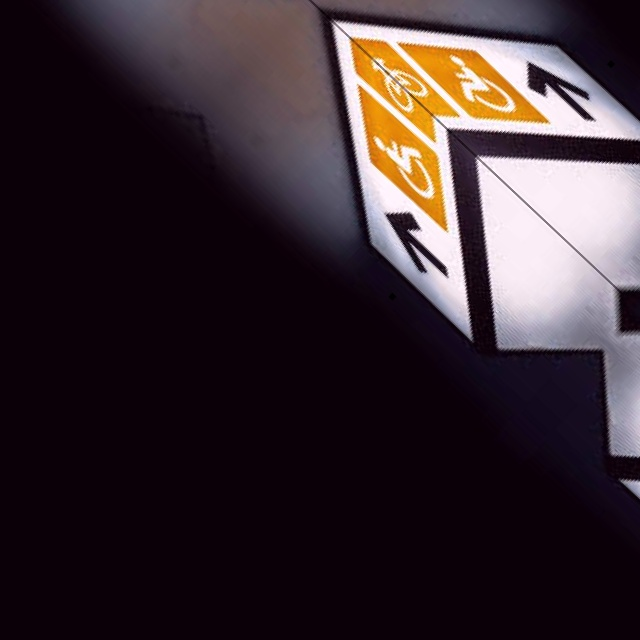ISA: (429, 44, 520, 133), (364, 114, 454, 203)
